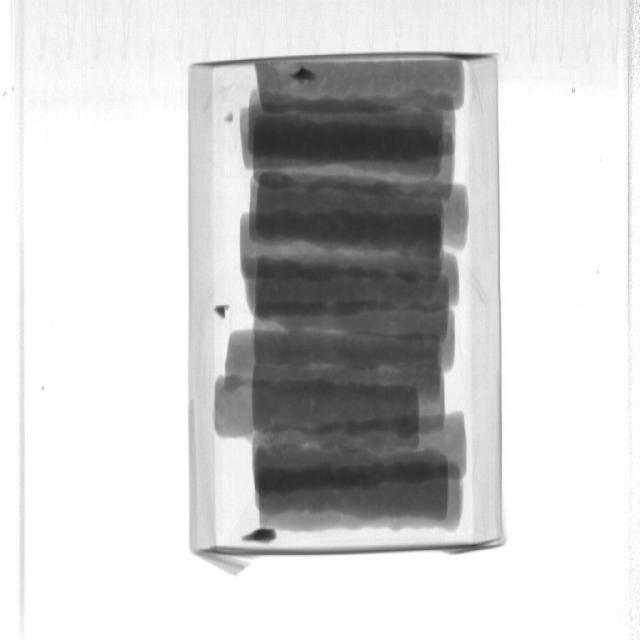ym: (242, 528, 277, 545), (292, 68, 318, 84), (216, 302, 231, 320), (226, 112, 234, 123)
